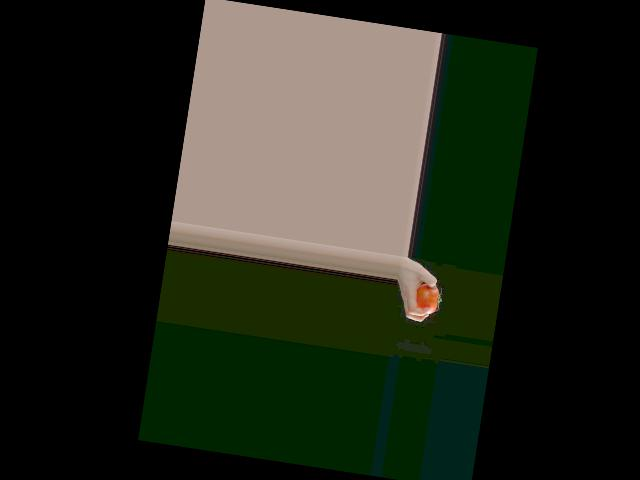tomato: (414, 282, 443, 315)
